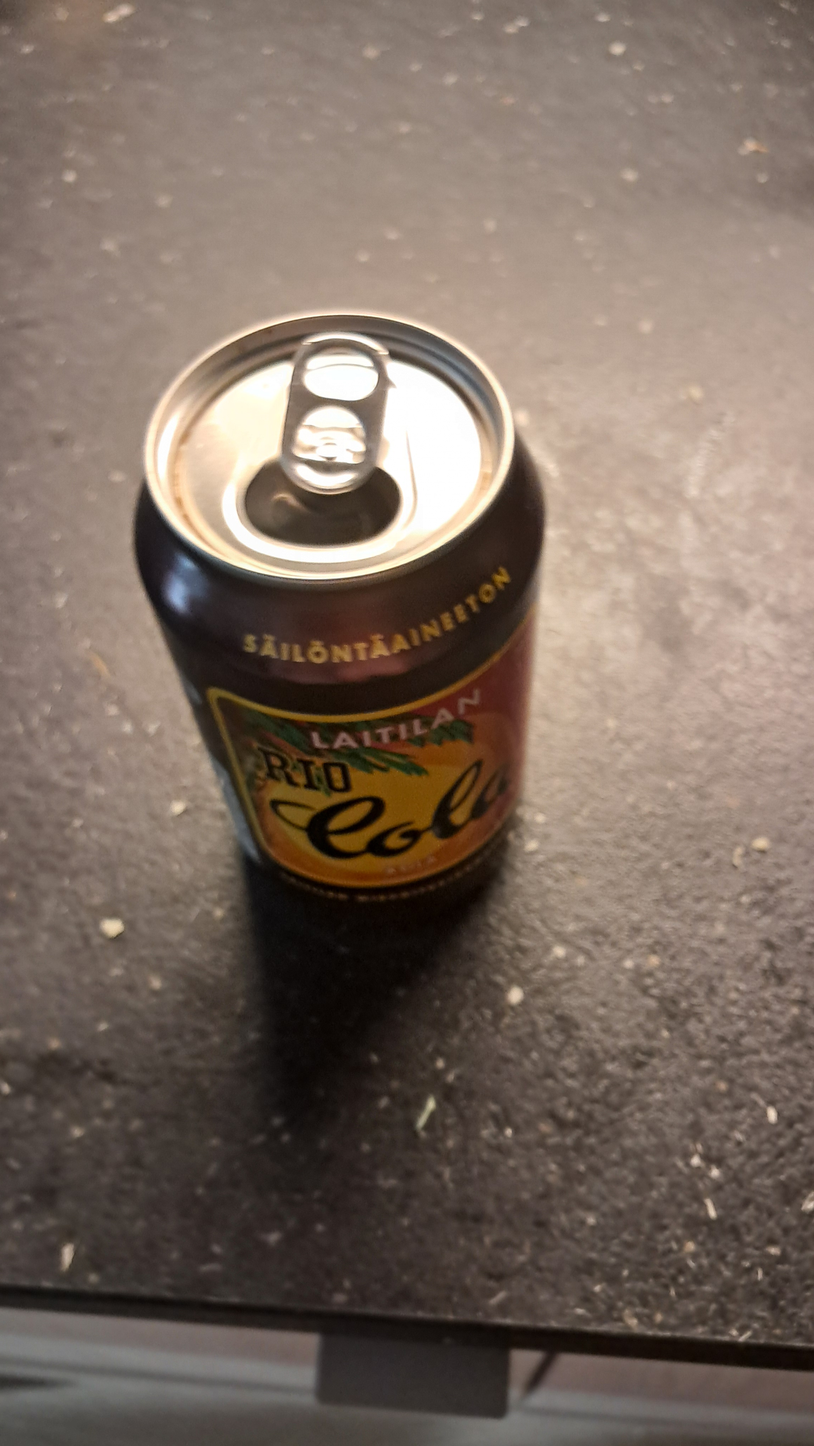Pantburk: (131, 307, 545, 915)
